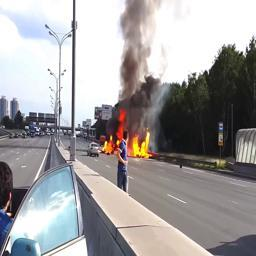fire: (103, 111, 153, 159)
